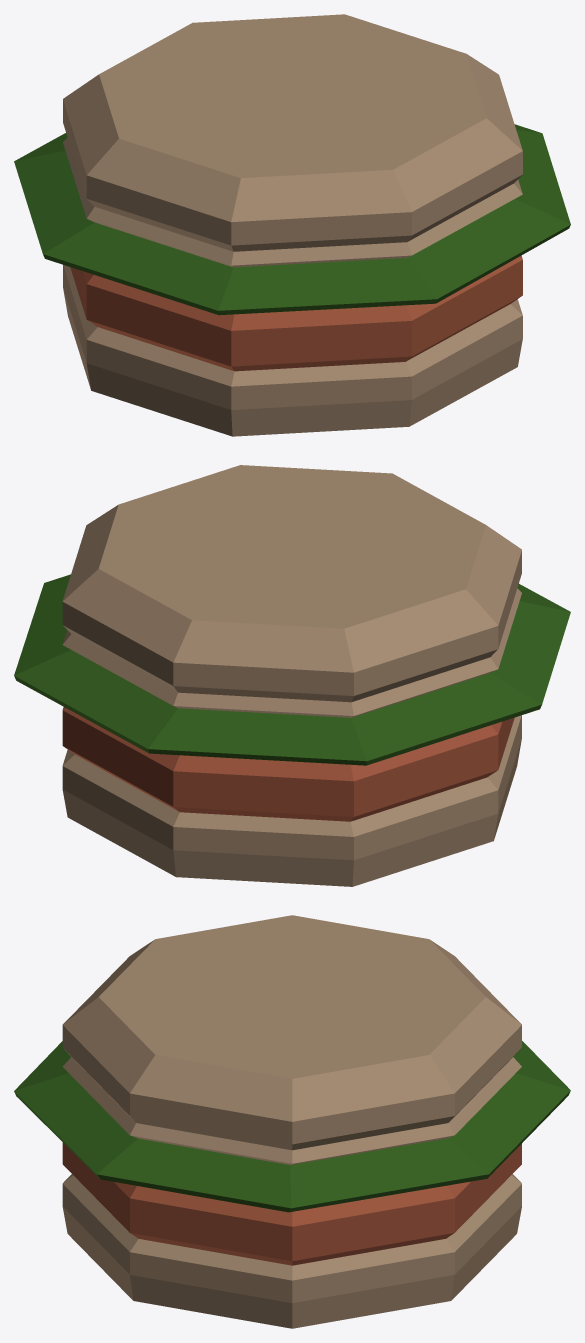
The model's file is burger.fbx.
The picture shows the model from 3 angles, top to bottom: view 1: azimuth 30°, elevation 25°; view 2: azimuth 150°, elevation 25°; view 3: azimuth 270°, elevation 25°; orthographic projection. The views are drawn at different scales.
Parts seen in each view (by area): view 1: burger; view 2: burger; view 3: burger.
Boxes of the visible parts, x1,y1,x2,y2 form: burger: (14, 14, 570, 436); burger: (14, 465, 570, 886); burger: (14, 915, 570, 1328).
Bounding box in the file's own units: 29.43 × 29.47 × 13.82.
